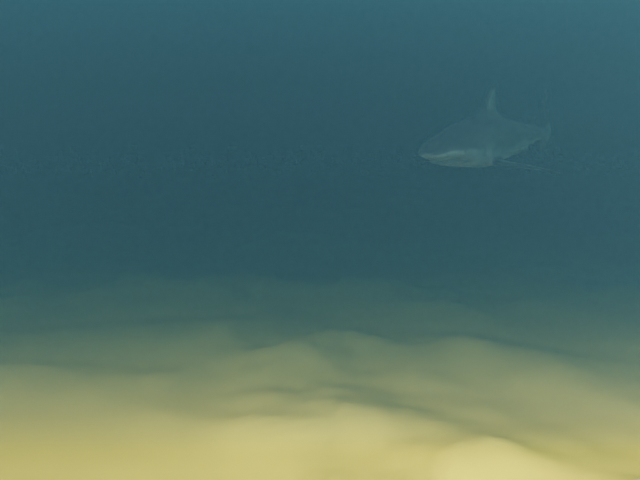Carribean Shark.001: (415, 83, 560, 173)
